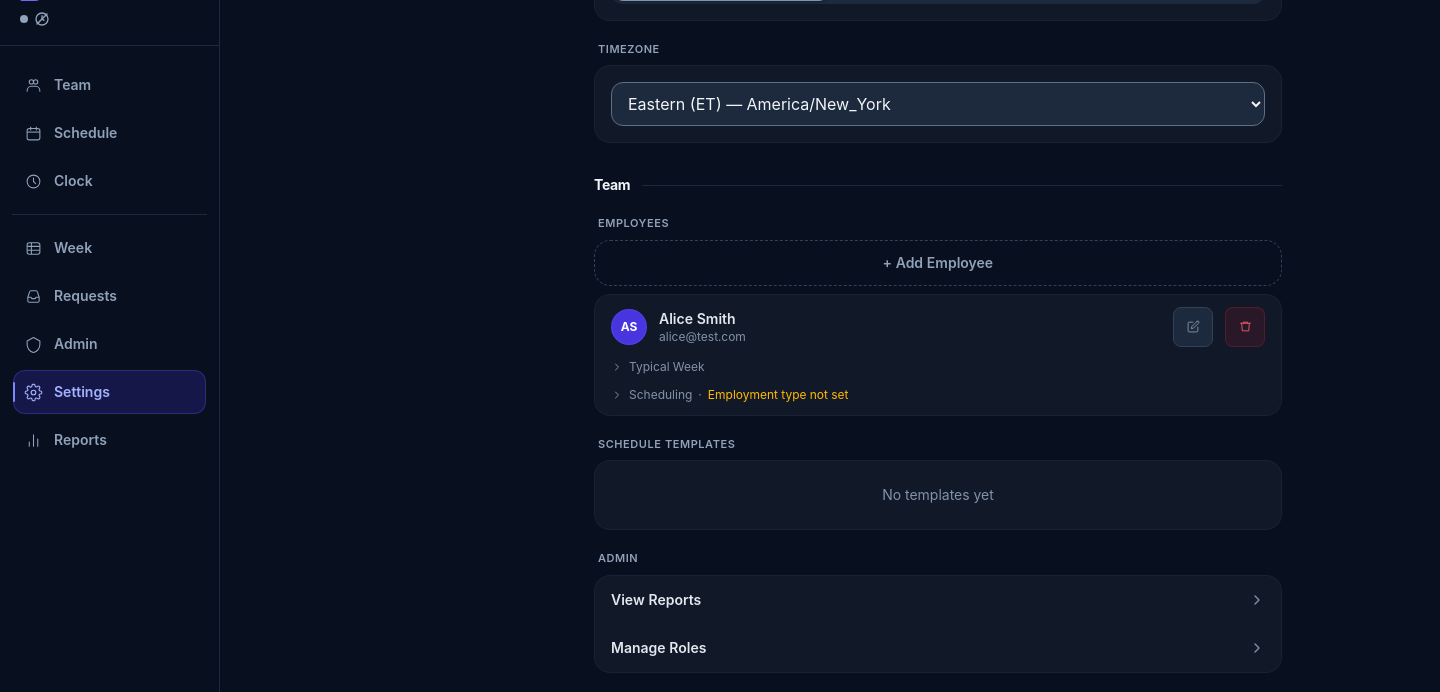
EmployeeAvailabilityRow in SettingsPageClient › shows note under restricted day when note exists
(page scrolled)
Click the button with aria-label "Toggle typical week": (658, 366) [611, 350, 705, 382]
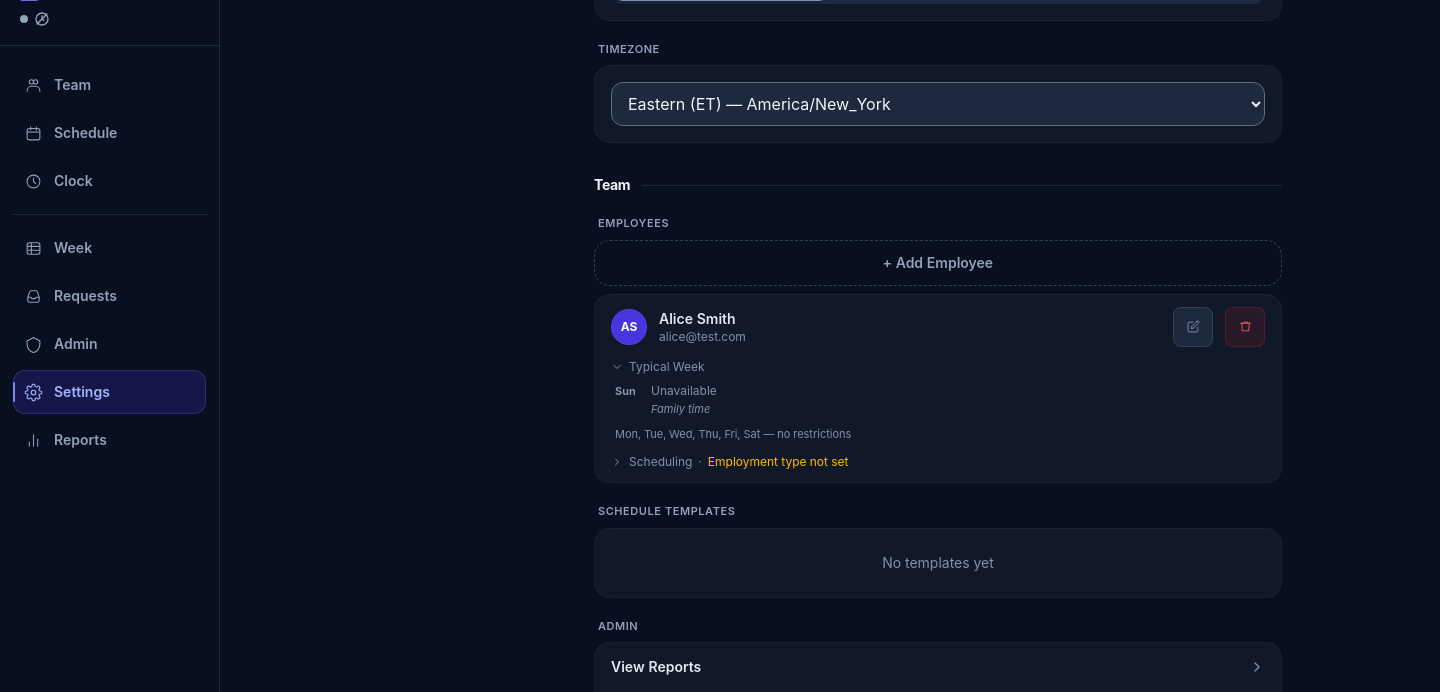
Expected: the text "Family time" is shown, [651, 402, 710, 416]
